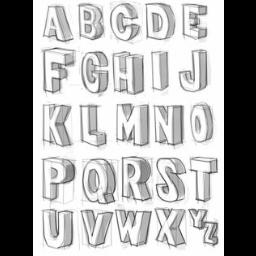a: (40, 2, 74, 44)
b: (76, 0, 106, 42)
c: (108, 2, 142, 44)
d: (144, 2, 176, 42)
e: (180, 2, 210, 42)
f: (38, 45, 76, 95)
g: (78, 46, 110, 94)
h: (111, 48, 145, 96)
i: (149, 48, 171, 94)
j: (174, 46, 210, 94)
k: (38, 101, 72, 149)
l: (76, 103, 108, 149)
m: (113, 100, 151, 148)
n: (152, 103, 186, 147)
o: (188, 100, 216, 144)
p: (39, 154, 75, 202)
q: (80, 157, 118, 205)
r: (120, 154, 152, 202)
s: (156, 155, 186, 203)
t: (188, 155, 218, 203)
u: (38, 207, 74, 249)
v: (78, 208, 114, 248)
w: (114, 208, 152, 248)
x: (154, 206, 186, 248)
